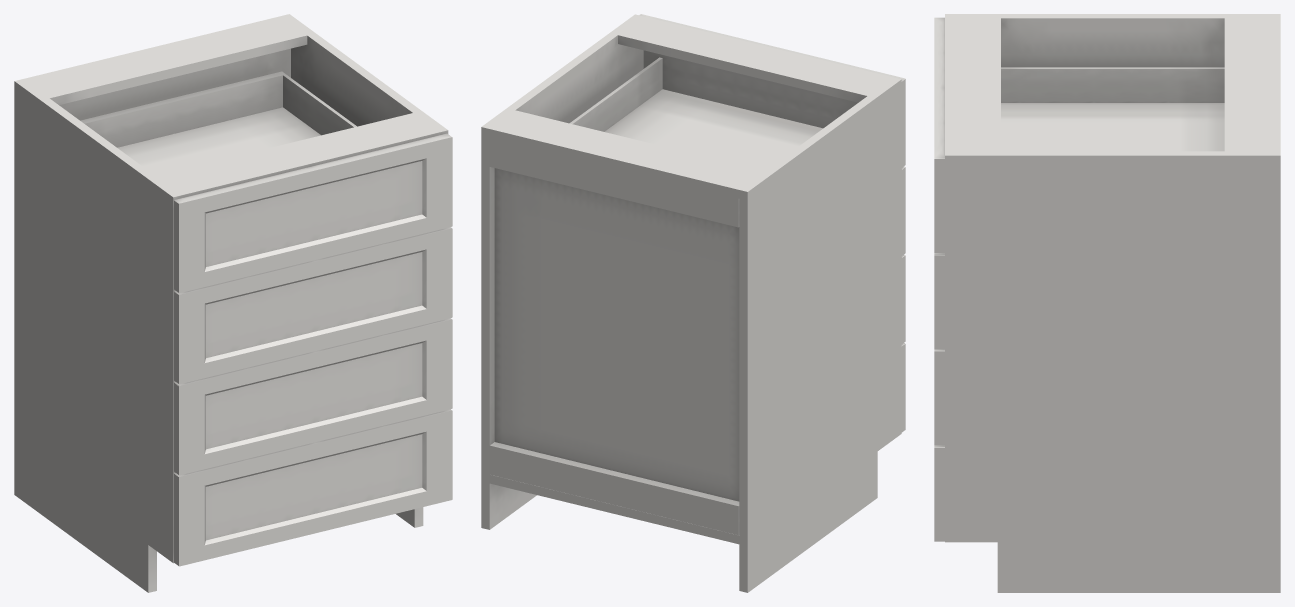
Rendered from 4-drawer-equal-base-doors-on.glb.
3 renders of one model, left to right at view 1: azimuth 30°, elevation 25°; view 2: azimuth 150°, elevation 25°; view 3: azimuth 270°, elevation 25°, orthographic. The views are drawn at different scales.
Parts seen in each view (by area): view 1: part_22, part_0, part_7; view 2: part_0, part_7, part_22; view 3: part_0, part_7, part_22.
Boxes of the visible parts, bbox=[...] form: part_22: bbox=[174, 133, 452, 566]; part_0: bbox=[14, 14, 448, 592]; part_7: bbox=[80, 71, 356, 175]; part_0: bbox=[481, 14, 901, 592]; part_7: bbox=[569, 57, 822, 170]; part_22: bbox=[639, 14, 905, 432]; part_0: bbox=[945, 14, 1280, 592]; part_7: bbox=[1001, 67, 1224, 151]; part_22: bbox=[934, 17, 944, 541].
Bounding box in the file's own units: 0.6096 × 0.8763 × 0.6286.
Materials: 3 (2 with a texture image).
